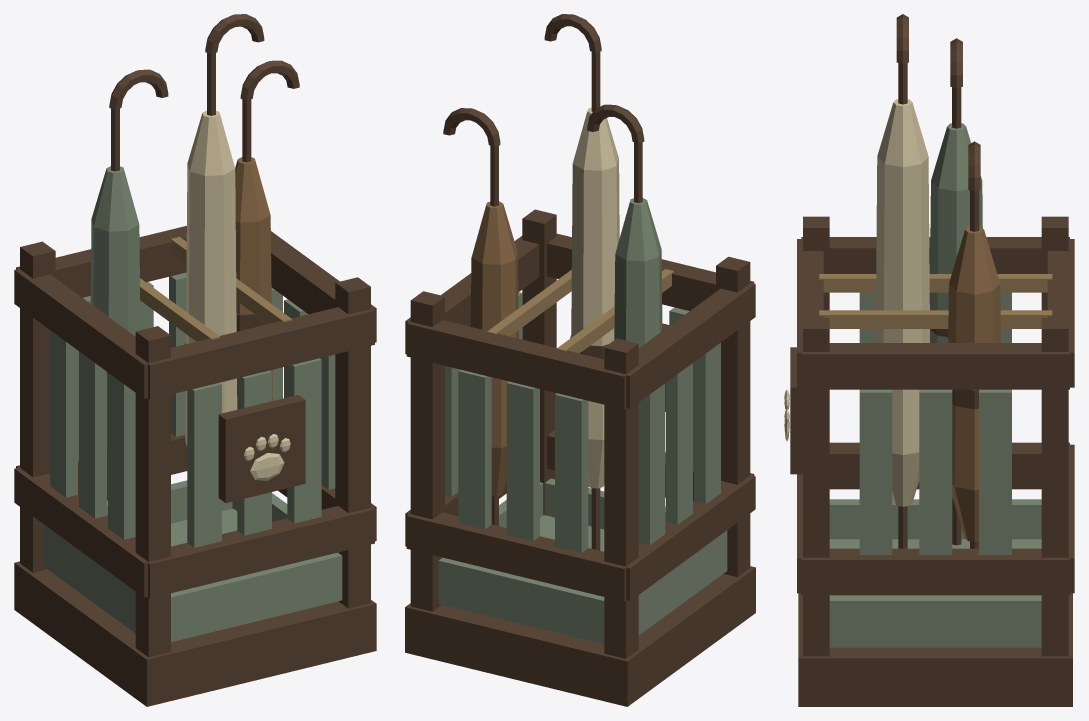
The model's file is Museum_Umbrella_Stand.fbx.
3 views of the same model, side by side, from view 1: azimuth 30°, elevation 25°; view 2: azimuth 150°, elevation 25°; view 3: azimuth 270°, elevation 25° (orthographic). The views are drawn at different scales.
Visible parts, largest first — view 1: Museum_Umbrella_Stand; view 2: Museum_Umbrella_Stand; view 3: Museum_Umbrella_Stand.
Boxes of the visible parts, box(x1,y1,x2,y2) form: Museum_Umbrella_Stand: box(14, 14, 376, 706); Museum_Umbrella_Stand: box(405, 14, 755, 706); Museum_Umbrella_Stand: box(784, 14, 1074, 706).
Bounding box in the file's own units: 47.85 × 119 × 48.6.
1 material, 1 textured.
